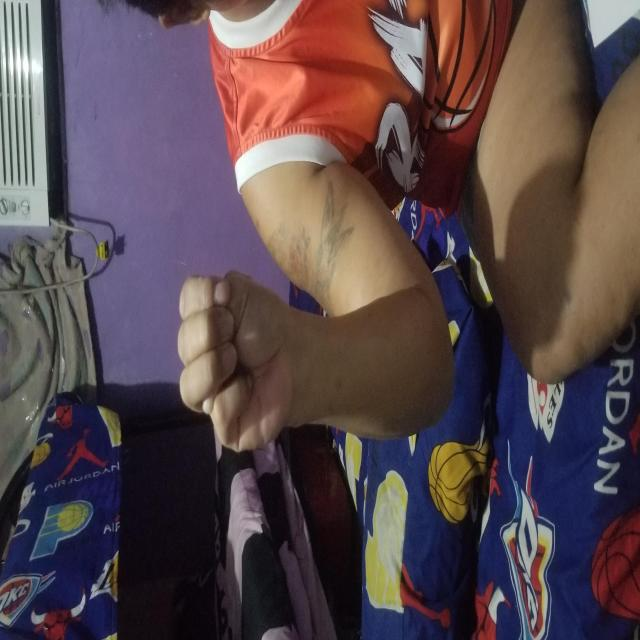M: (188, 176, 373, 286)
